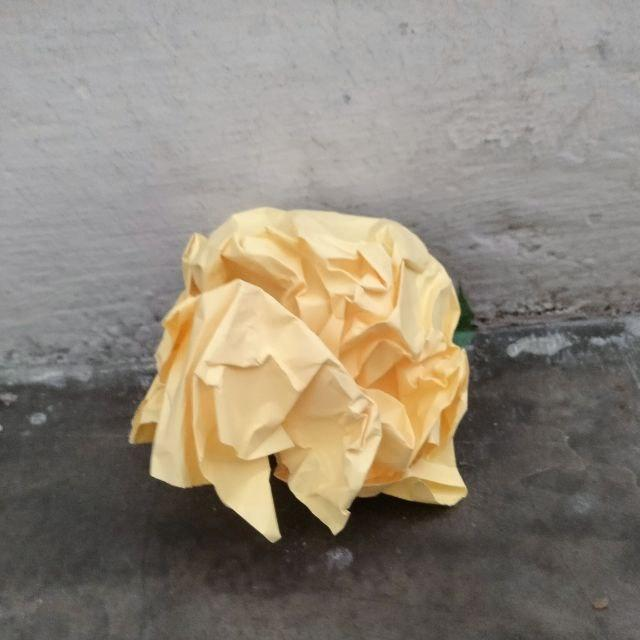paper: (123, 157, 476, 580)
